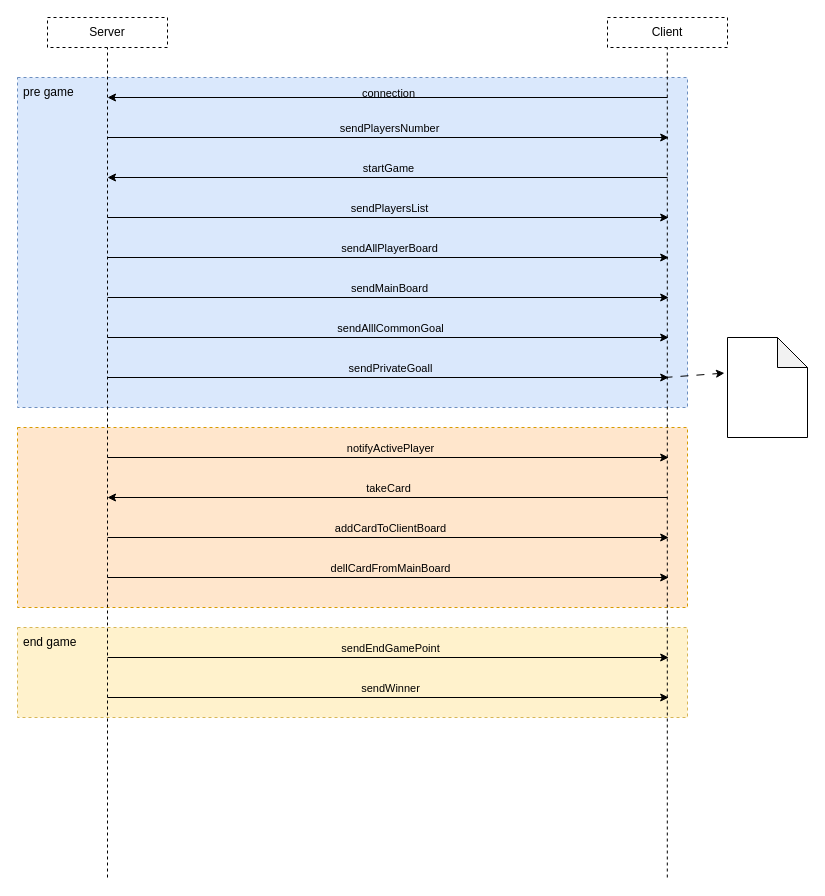
Image size: 825x896. Some labels were removed from this diagram. Here are the shapes that lost their labels. From the top down, the box of each, then its label:
(726, 336, 808, 438): one time for each players
(16, 426, 688, 608): in game
